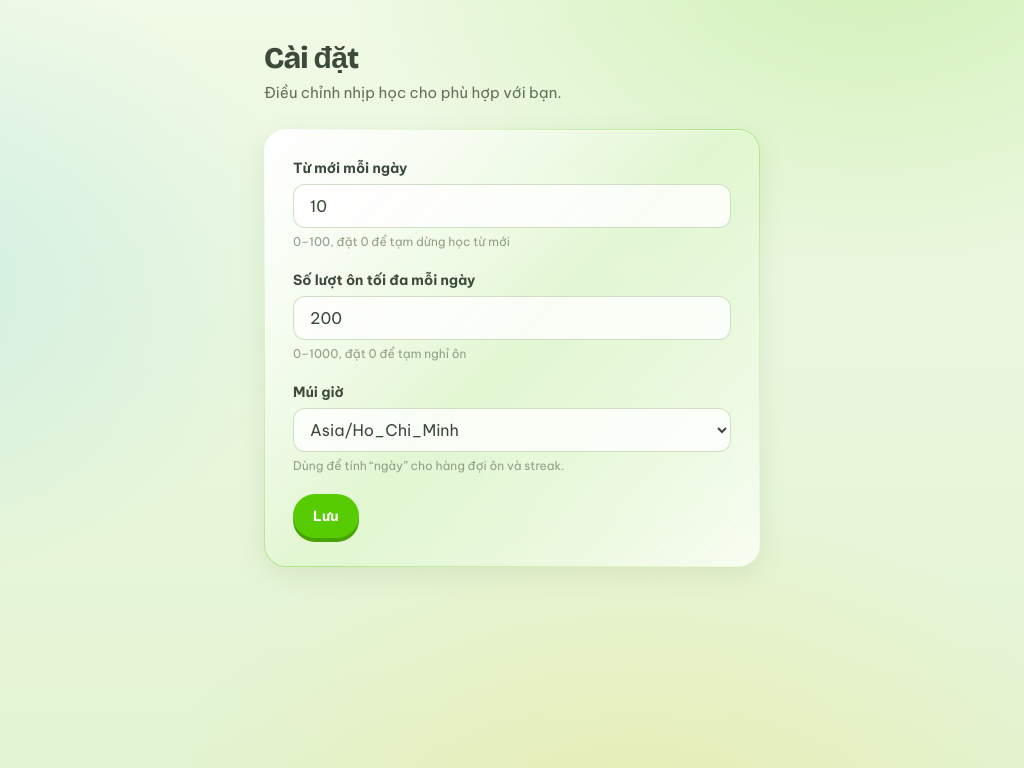
saves updated settings and confirms
Replace the text in the number field labelled "Từ mới mỗi ngày" with "25": (512, 206) top-left (293, 184), bottom-right (731, 228)
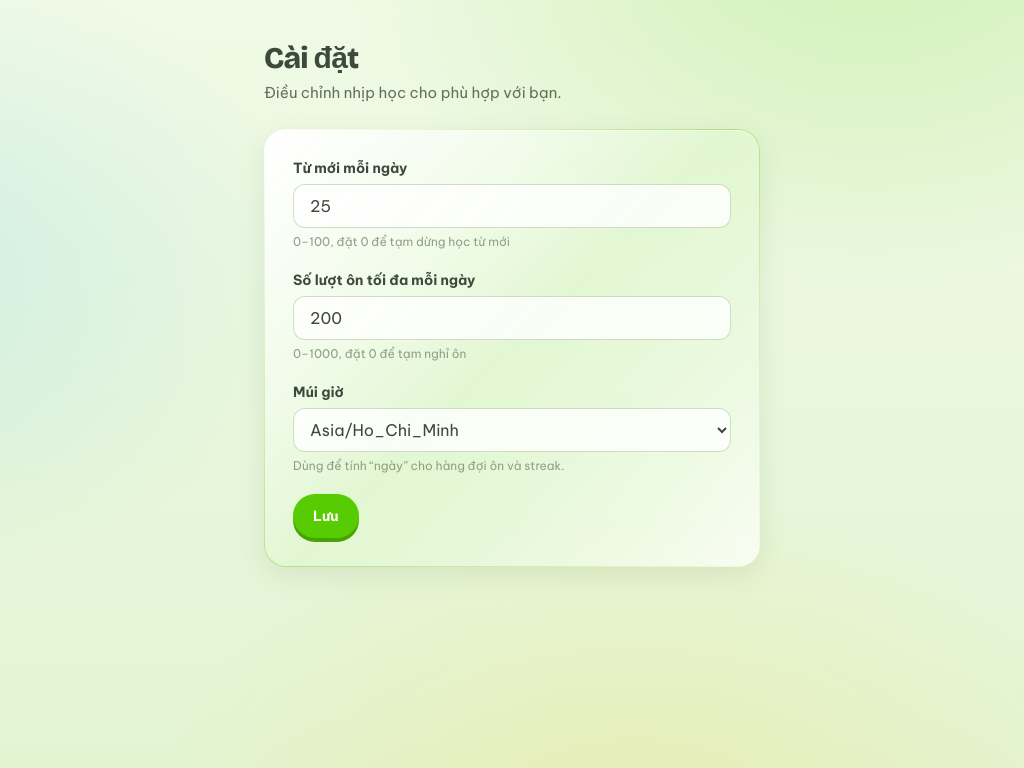
Select "Asia/Tokyo" in the dropdown labelled "Múi giờ": (512, 430) top-left (293, 408), bottom-right (731, 452)
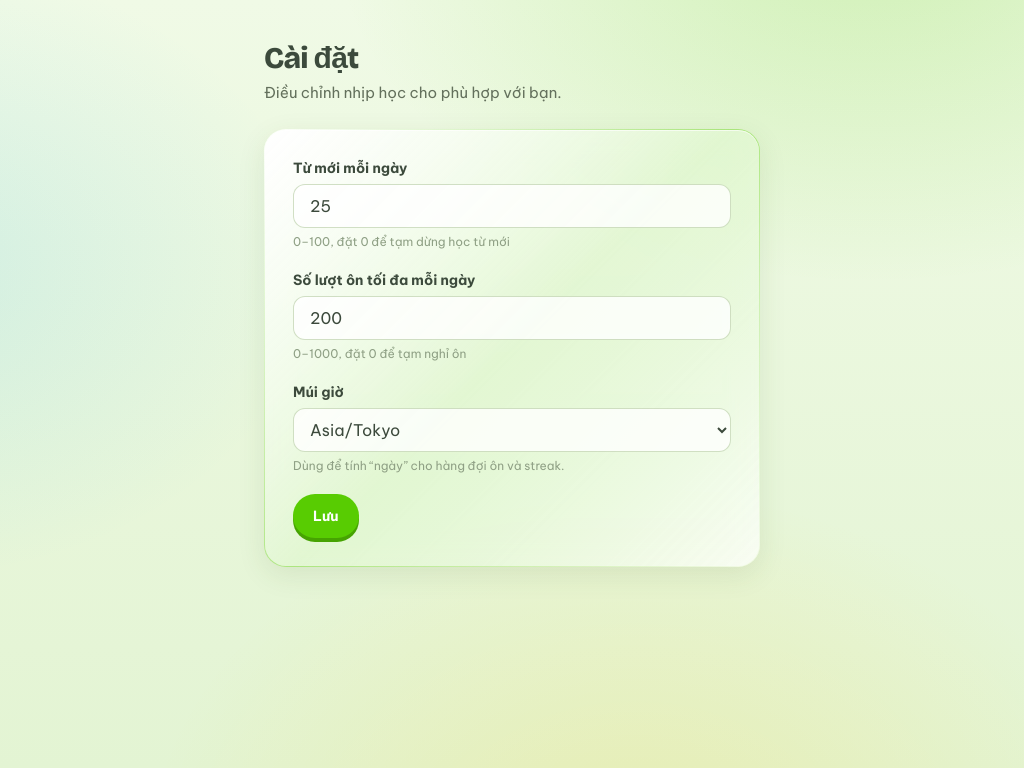
Click the button "Lưu": (326, 516) top-left (293, 494), bottom-right (358, 538)
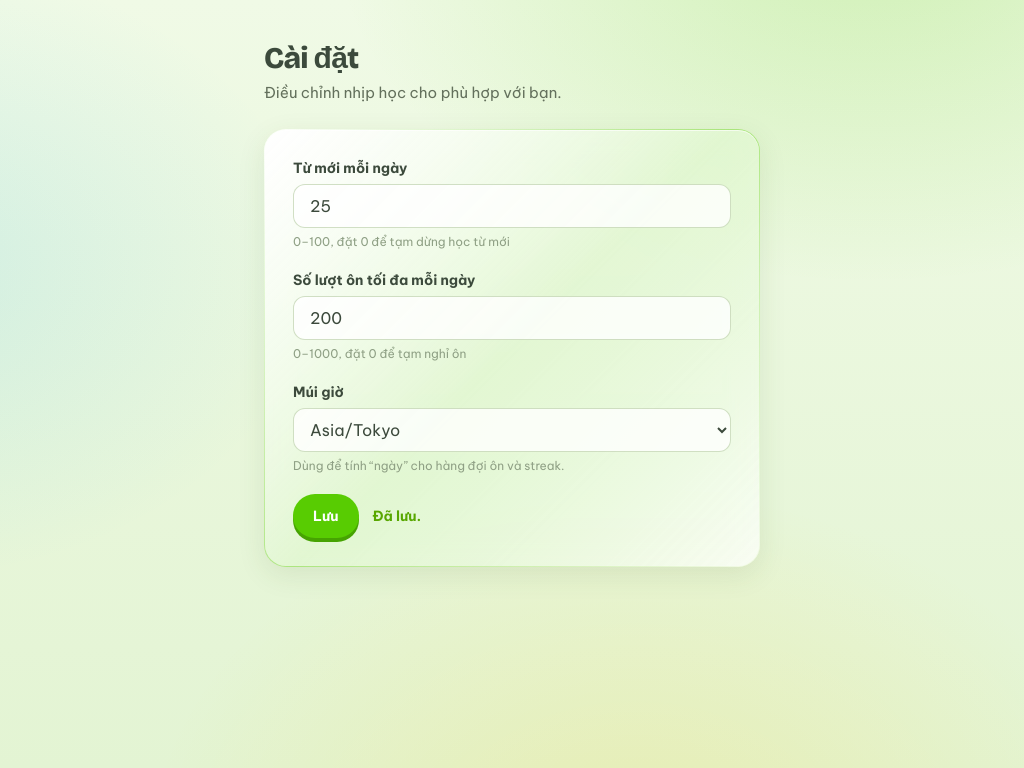
Check: the text "Đã lưu." is shown, box top-left (372, 506), bottom-right (421, 526)
